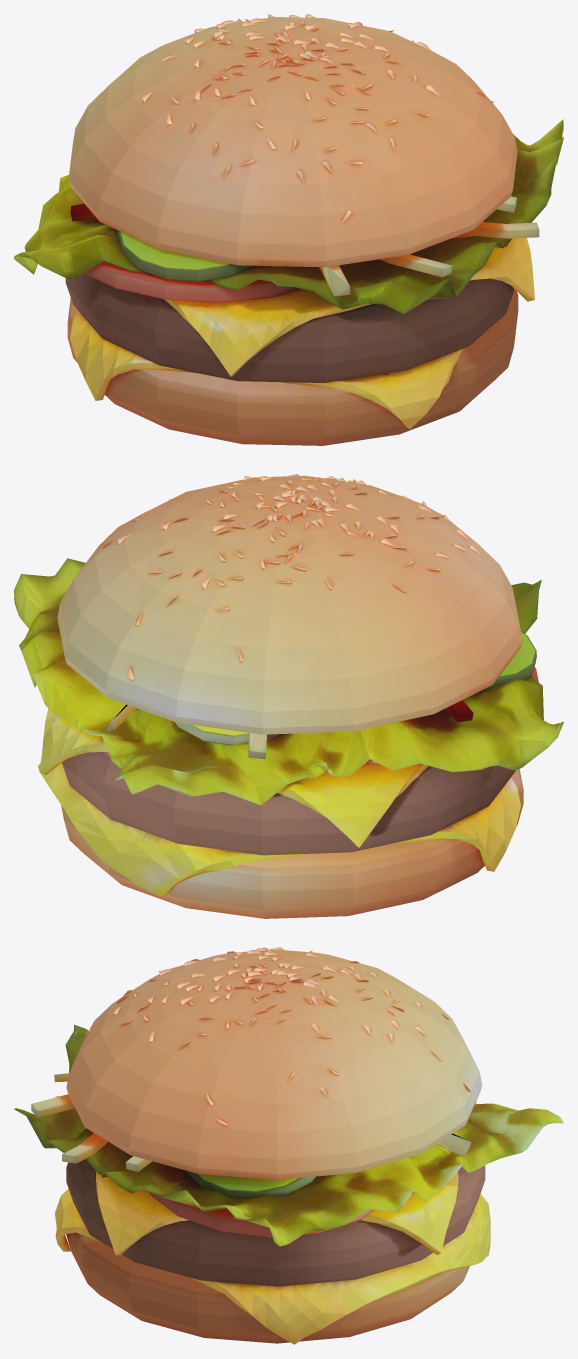
The model's file is burger.glb.
3 renders of one model, top to bottom at view 1: azimuth 30°, elevation 25°; view 2: azimuth 150°, elevation 25°; view 3: azimuth 270°, elevation 25°, orthographic. The views are drawn at different scales.
Parts seen in each view (by area): view 1: Object_6, Object_10, Object_8, Object_31, Object_12, Object_14, Object_4, Object_25, Object_39, Object_36, Object_37; view 2: Object_6, Object_31, Object_10, Object_8, Object_14, Object_12, Object_4, Object_39, Object_16, Object_37; view 3: Object_6, Object_31, Object_10, Object_8, Object_14, Object_12, Object_4, Object_39, Object_29, Object_19, Object_20.
Part boxes in pixels (x1,y1,x2,y2): Object_6: (68, 17, 517, 267); Object_10: (65, 273, 513, 382); Object_8: (67, 289, 518, 445); Object_31: (14, 119, 563, 314); Object_12: (164, 238, 534, 376); Object_14: (70, 310, 463, 428); Object_4: (141, 14, 493, 223); Object_25: (84, 261, 300, 302); Object_39: (70, 196, 539, 296); Object_36: (117, 230, 256, 281); Object_37: (121, 232, 229, 269); Object_6: (57, 475, 522, 734); Object_31: (14, 558, 563, 805); Object_10: (62, 752, 515, 855); Object_8: (61, 769, 523, 918); Object_14: (38, 763, 520, 896); Object_12: (39, 708, 429, 847); Object_4: (102, 474, 481, 680); Object_39: (106, 700, 473, 759); Object_16: (174, 722, 283, 745); Object_37: (499, 632, 535, 676); Object_6: (66, 949, 482, 1179); Object_31: (14, 1025, 563, 1246); Object_10: (66, 1159, 485, 1286); Object_8: (66, 1232, 469, 1343); Object_14: (55, 1189, 490, 1344); Object_12: (95, 1171, 458, 1255); Object_4: (85, 947, 470, 1126); Object_39: (31, 1073, 471, 1171); Object_29: (149, 1192, 373, 1237); Object_19: (186, 1170, 315, 1198); Object_20: (198, 1174, 298, 1191).
Bounding box in the file's own units: 0.828 × 0.4705 × 0.7999.
Materials: 21 (21 with a texture image).
